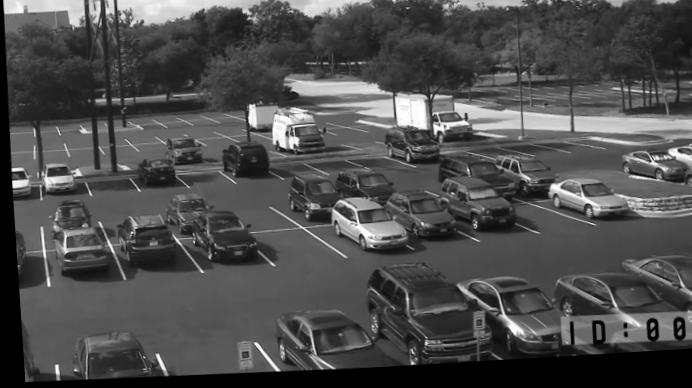empty: (146, 327, 271, 378), (251, 228, 344, 269), (509, 206, 588, 241), (83, 175, 141, 201), (229, 201, 280, 228), (305, 159, 359, 180), (100, 203, 144, 227), (178, 171, 229, 191), (530, 147, 598, 161), (351, 158, 409, 174), (397, 178, 440, 197), (270, 161, 315, 178), (315, 126, 361, 140), (505, 152, 562, 163), (465, 152, 512, 163), (197, 139, 236, 151), (121, 131, 157, 144), (62, 149, 104, 160), (98, 146, 140, 157), (11, 209, 34, 229), (90, 135, 126, 147), (201, 149, 228, 164), (54, 124, 83, 137), (32, 140, 66, 151), (127, 119, 161, 130), (30, 125, 61, 137), (33, 151, 66, 162), (183, 128, 218, 138), (212, 126, 247, 136), (130, 143, 164, 153), (151, 131, 184, 141), (9, 152, 34, 165), (63, 138, 95, 148), (229, 136, 268, 144), (8, 126, 32, 139), (122, 157, 145, 170), (207, 116, 239, 125), (158, 119, 189, 128), (184, 118, 213, 127), (8, 141, 33, 151)
occupied: (353, 267, 497, 370), (449, 282, 588, 364), (549, 276, 692, 350), (256, 308, 393, 374), (319, 198, 406, 259), (618, 258, 692, 319), (380, 193, 460, 247), (435, 182, 512, 238), (68, 328, 146, 380), (110, 215, 180, 269), (185, 213, 257, 264), (545, 185, 627, 225), (50, 224, 108, 275), (325, 172, 392, 209), (385, 129, 441, 173), (270, 112, 323, 158), (495, 162, 554, 203), (286, 178, 338, 224), (619, 158, 687, 191), (220, 146, 267, 188), (437, 160, 507, 187), (165, 196, 207, 237), (135, 158, 173, 189), (166, 138, 202, 168), (40, 164, 74, 193), (51, 201, 84, 229), (9, 168, 29, 197), (12, 230, 23, 282), (681, 177, 692, 195)
